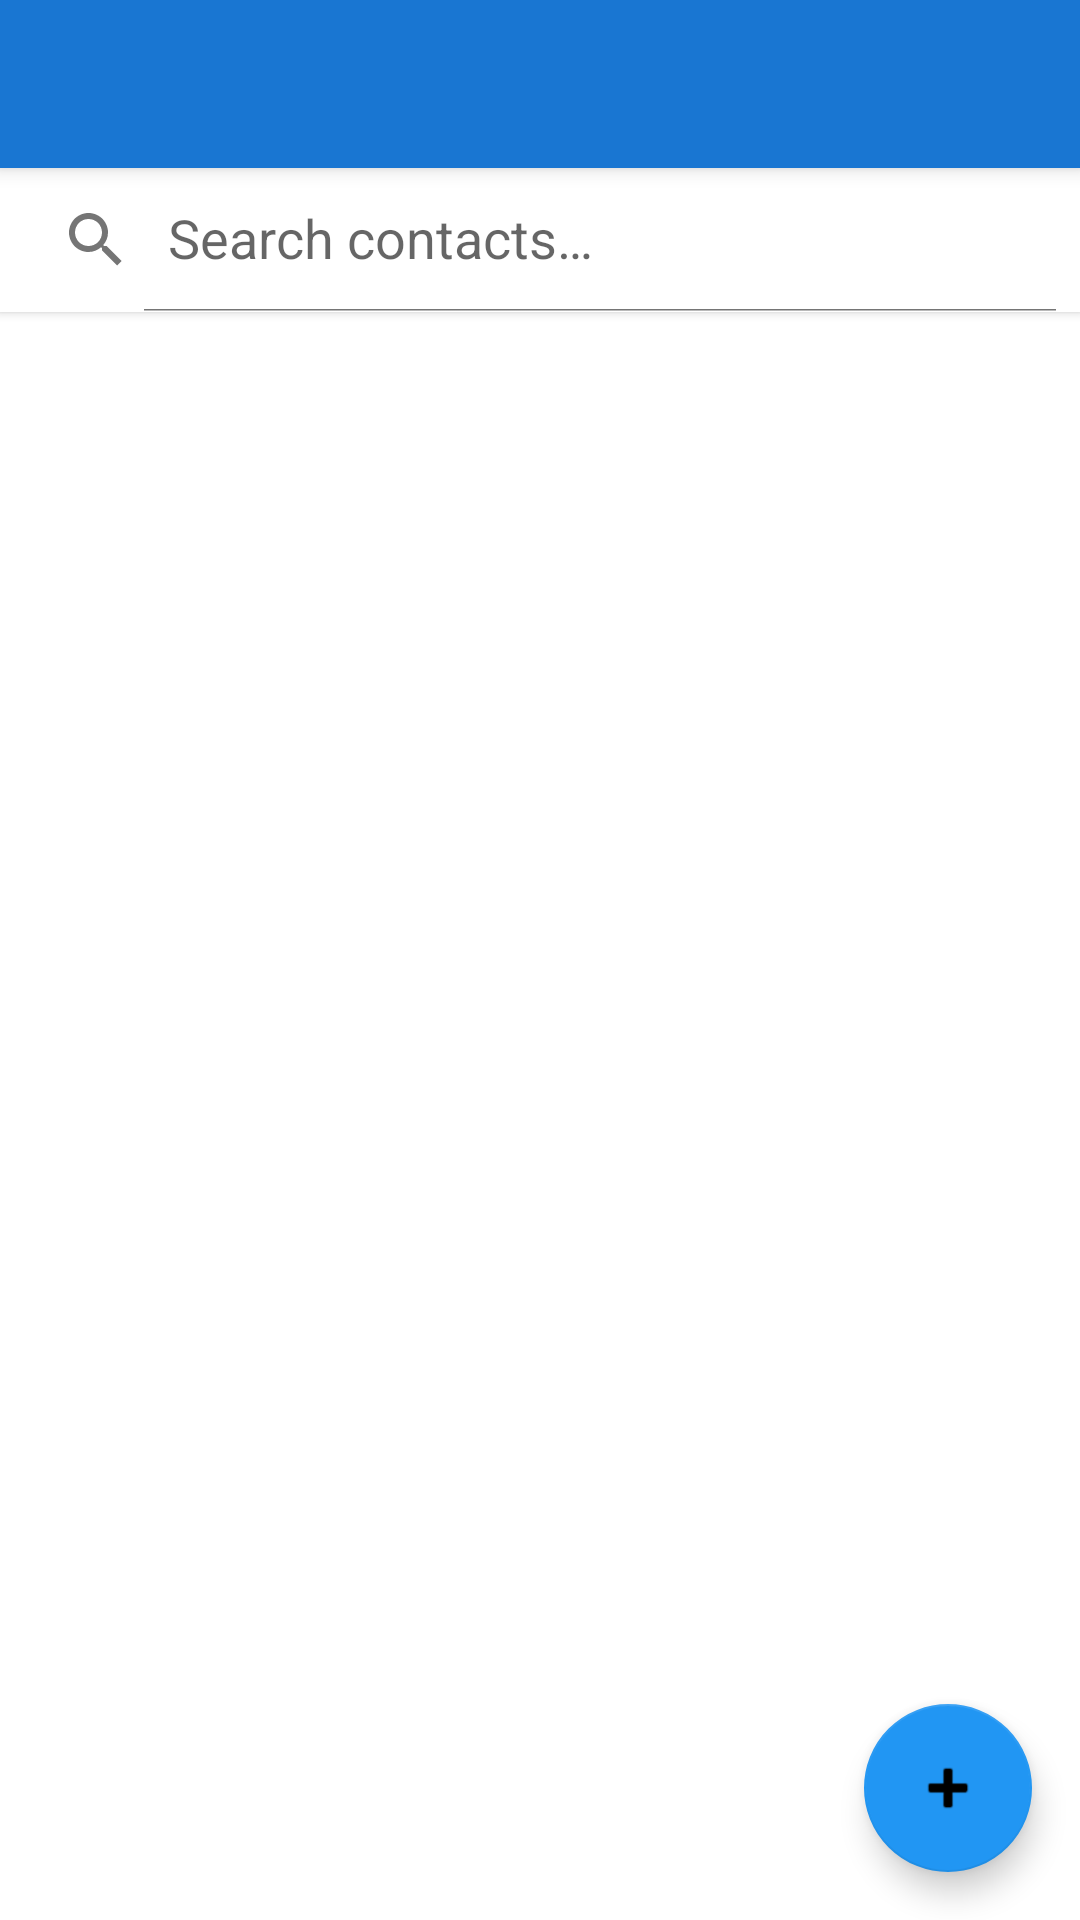

Screen size 1080 × 1920. Icon name, then its center in pixels as point (x, y):
Add Contact: point (948, 1788)
